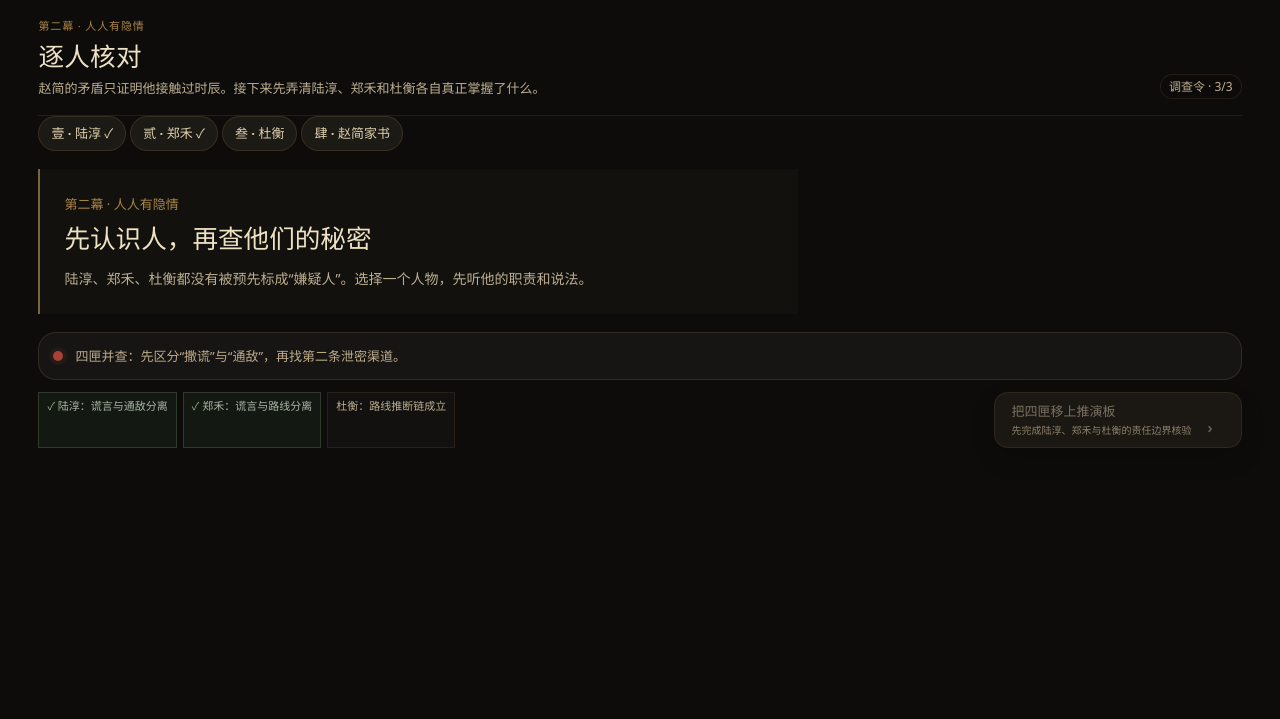
second-act Du Heng route-inference line › locks the price confrontation behind the fodder basis and says why
What coordinates should you click on to do the following:
click the button "叁 · 杜衡"
I would click on:
 (260, 133)
Its box is [222,116,297,151].
(page scrolled)
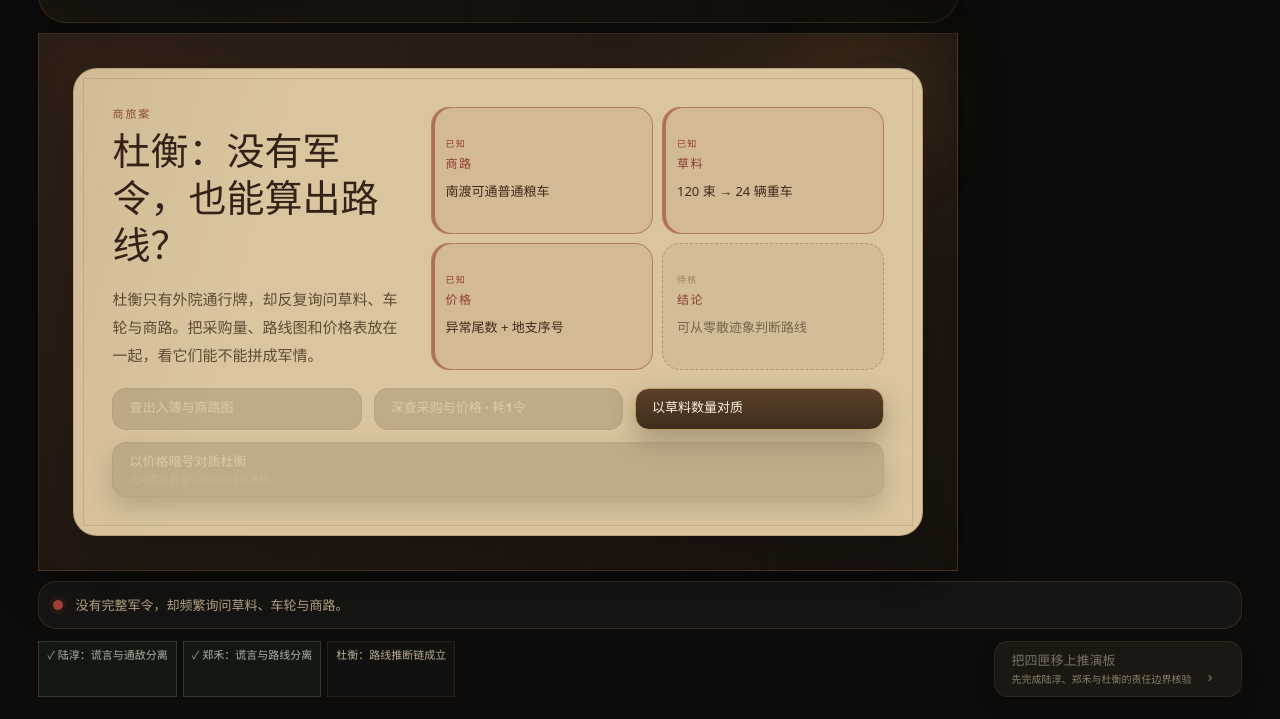
Expected: the button "把四匣移上推演板 先完成陆淳、郑禾与杜衡的责任边界核验 ›" is disabled, [994,641,1242,696]
Now the button "以价格暗号对质杜衡 先用草料数量钉死他的推算基础" is disabled, box [112,442,884,497]
# 补上草料对质这一步之后，同一条价格暗号才能形成突破并解锁推演板。
What coordinates should you click on to do the following:
click the button "以草料数量对质"
I would click on:
 (760, 409)
Its box is [635,388,884,430].
(page scrolled)
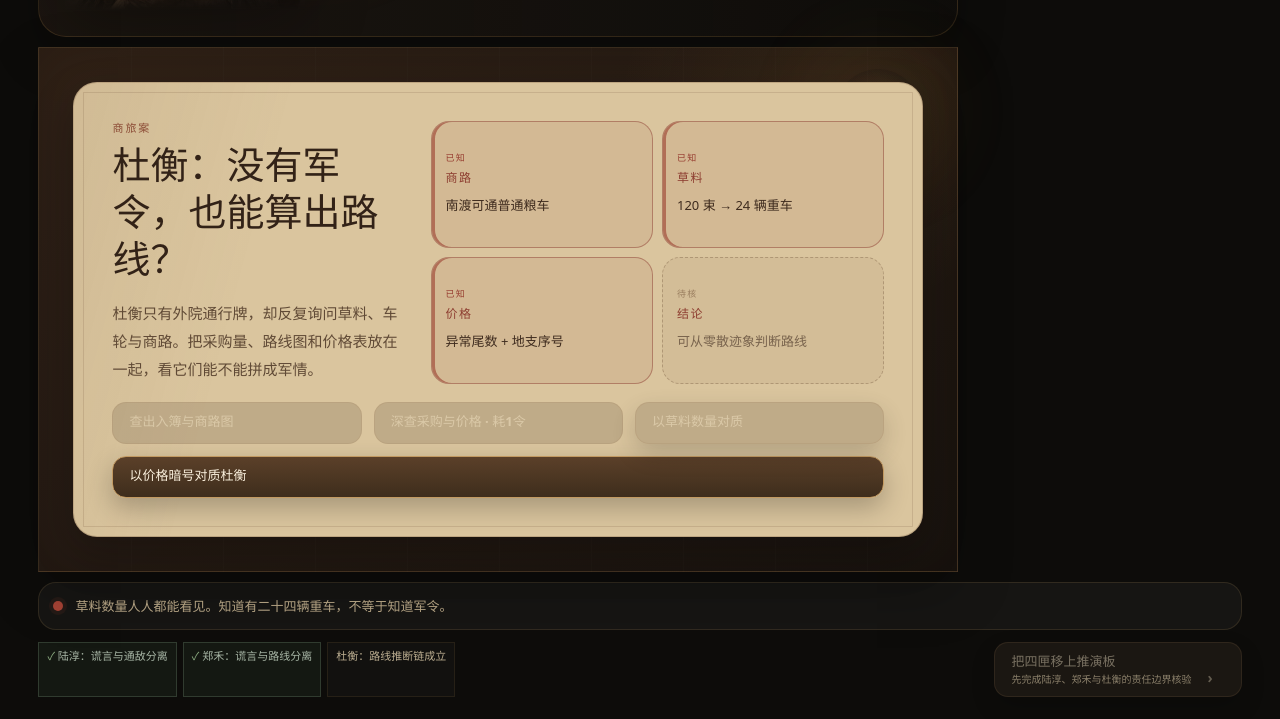
Now the button "以价格暗号对质杜衡" is enabled
What coordinates should you click on to do the following:
click the button "以价格暗号对质杜衡"
I would click on:
 (188, 475)
Its box is [112,456,884,498].
(page scrolled)
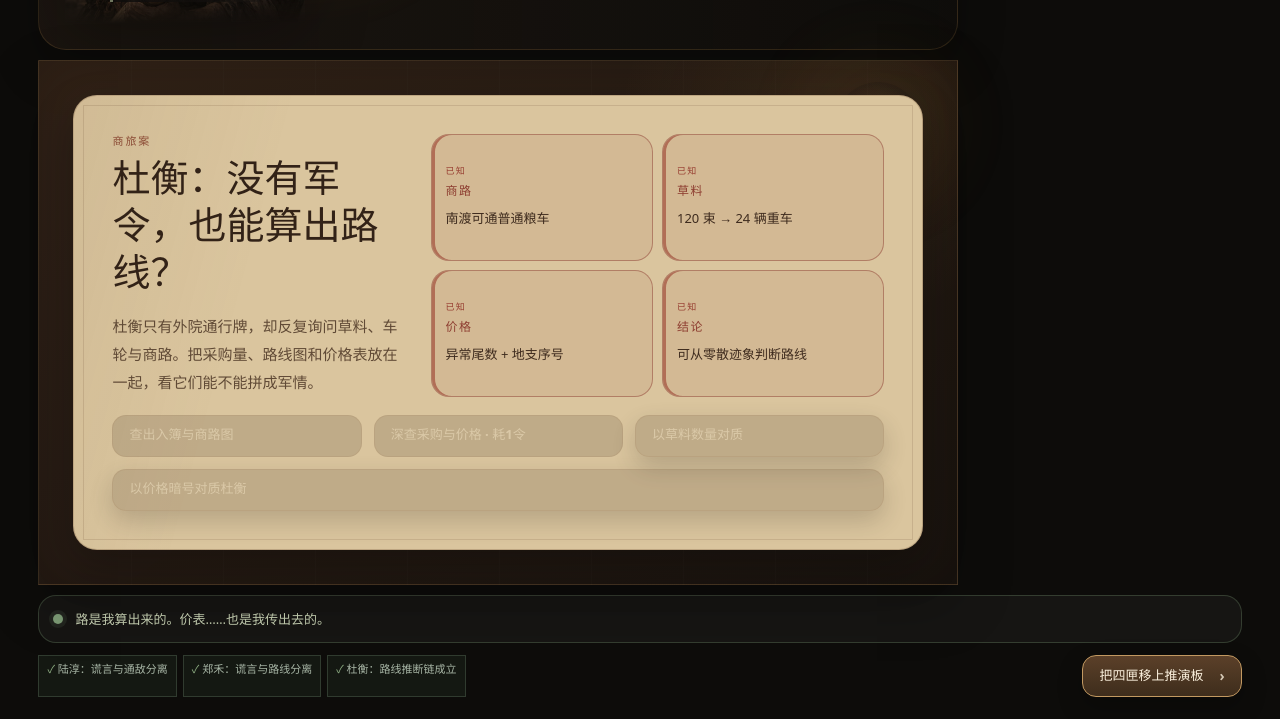
Now the button "把四匣移上推演板 ›" is enabled, box [1082,655,1242,697]
